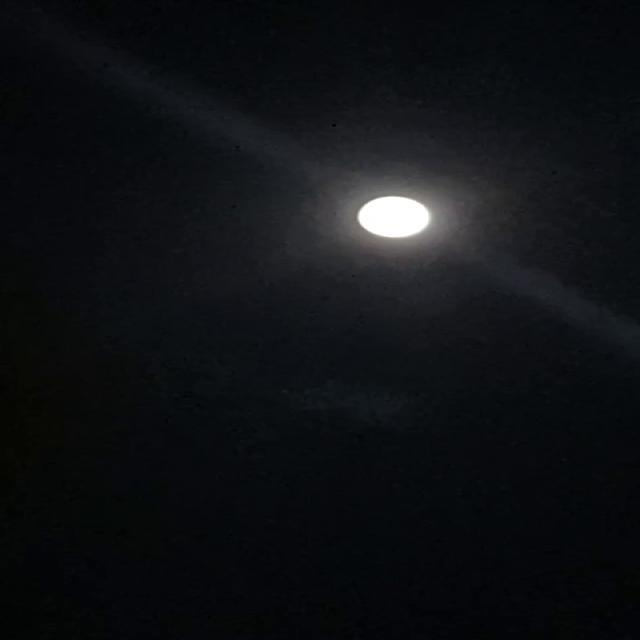moon: (342, 190, 458, 248)
